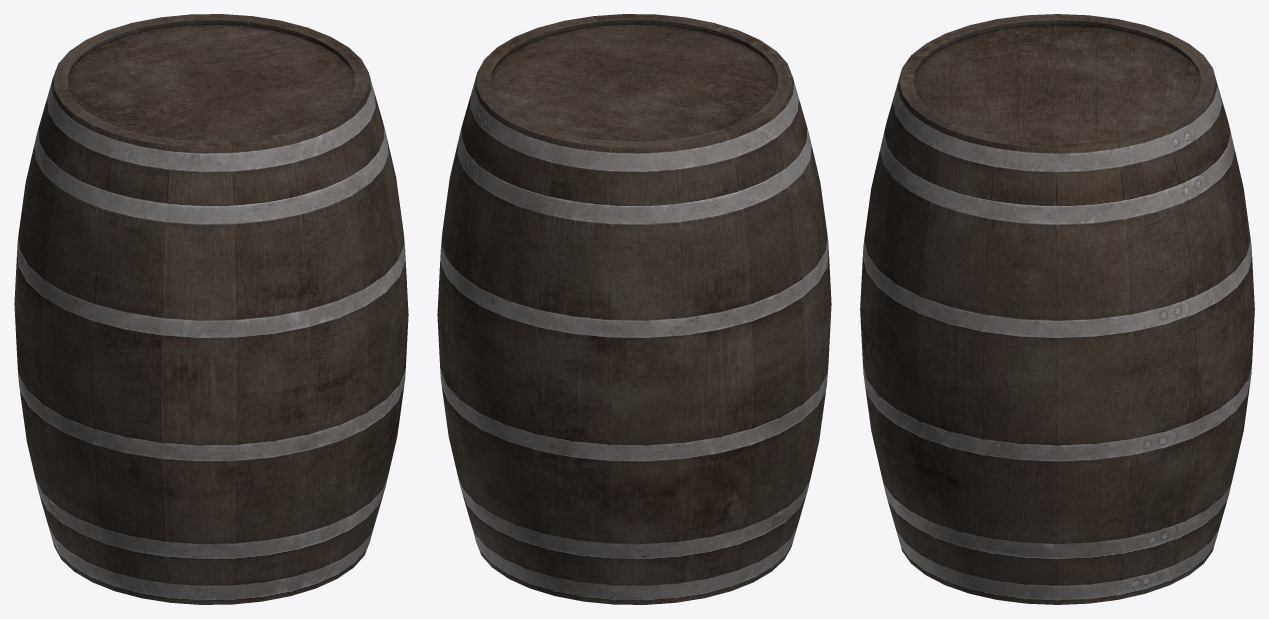
The model's file is barrel.glb.
3 renders of one model, left to right at view 1: azimuth 30°, elevation 25°; view 2: azimuth 150°, elevation 25°; view 3: azimuth 270°, elevation 25°, orthographic.
Visible parts, largest first — view 1: SM_Barrel; view 2: SM_Barrel; view 3: SM_Barrel.
Boxes of the visible parts, <box> form: SM_Barrel: <box>14,14,408,604</box>; SM_Barrel: <box>437,14,831,604</box>; SM_Barrel: <box>860,14,1254,604</box>.
Size of the model in its own units: 1.29 by 1.66 by 1.29.
1 material, 1 textured.
